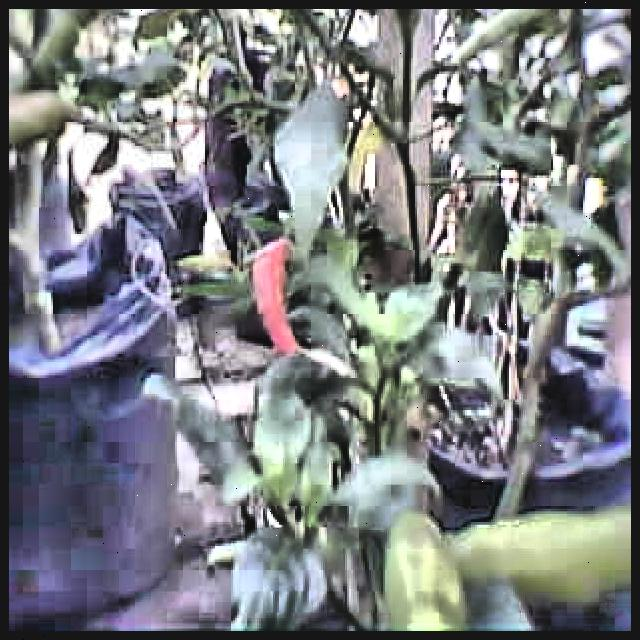Cabai: (232, 232, 312, 360)
